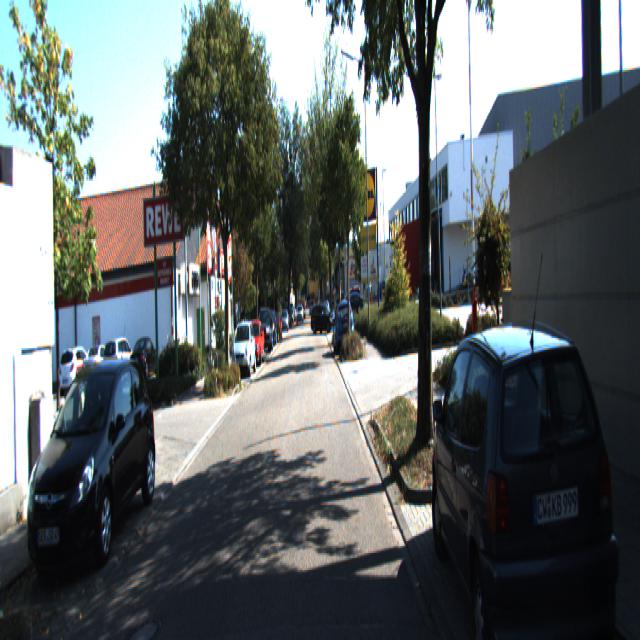Car: (426, 309, 627, 638), (26, 344, 158, 576), (102, 336, 140, 388), (58, 346, 97, 396), (129, 336, 162, 389), (82, 344, 118, 392), (231, 322, 256, 379), (334, 300, 354, 355), (243, 319, 265, 367)
